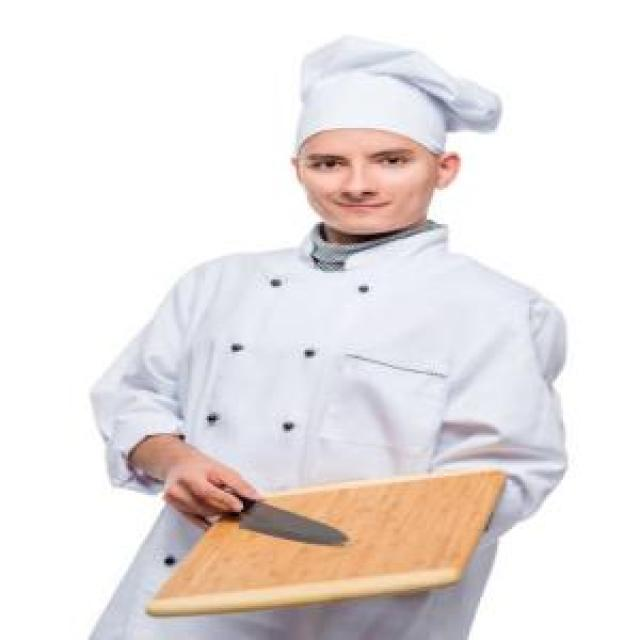knife: (186, 482, 352, 553)
